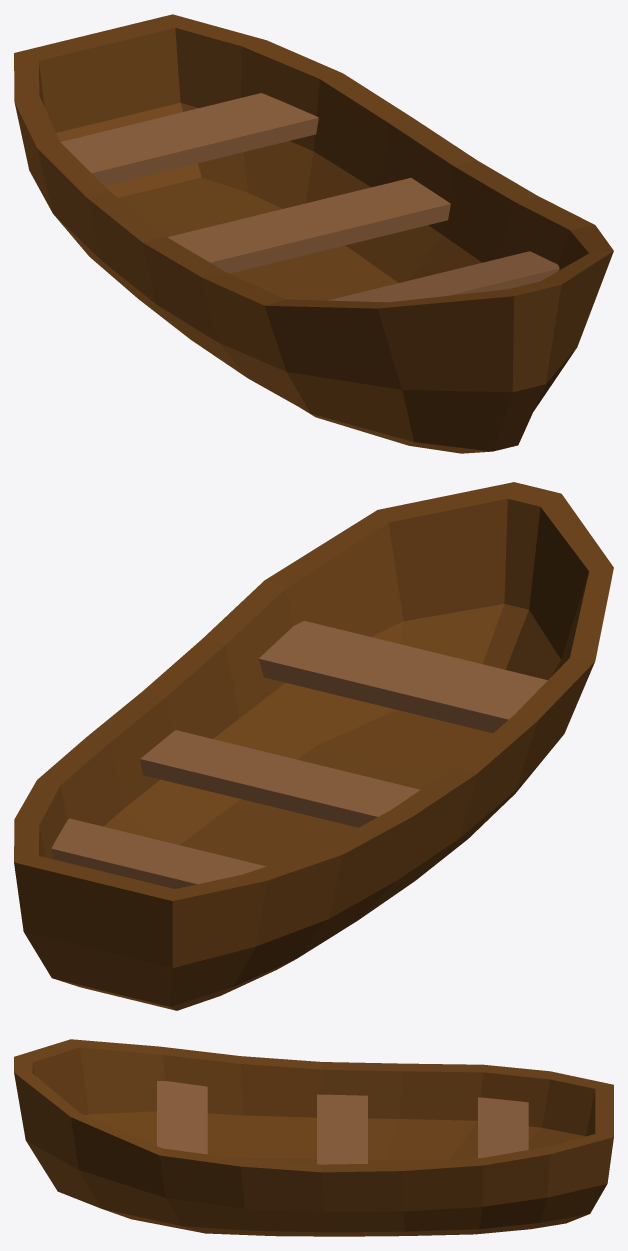
The model's file is RowBoat.fbx.
The picture shows the model from 3 angles, top to bottom: view 1: azimuth 30°, elevation 25°; view 2: azimuth 150°, elevation 25°; view 3: azimuth 270°, elevation 25°; orthographic projection. The views are drawn at different scales.
Parts seen in each view (by area): view 1: RowBoat; view 2: RowBoat; view 3: RowBoat.
Boxes of the visible parts, bbox=[...] form: RowBoat: bbox=[14, 14, 613, 453]; RowBoat: bbox=[14, 482, 613, 1010]; RowBoat: bbox=[14, 1039, 613, 1236].
Size of the model in its own units: 102 by 62.02 by 235.
